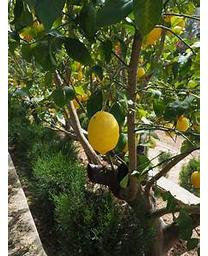lemon: (85, 111, 118, 152)
